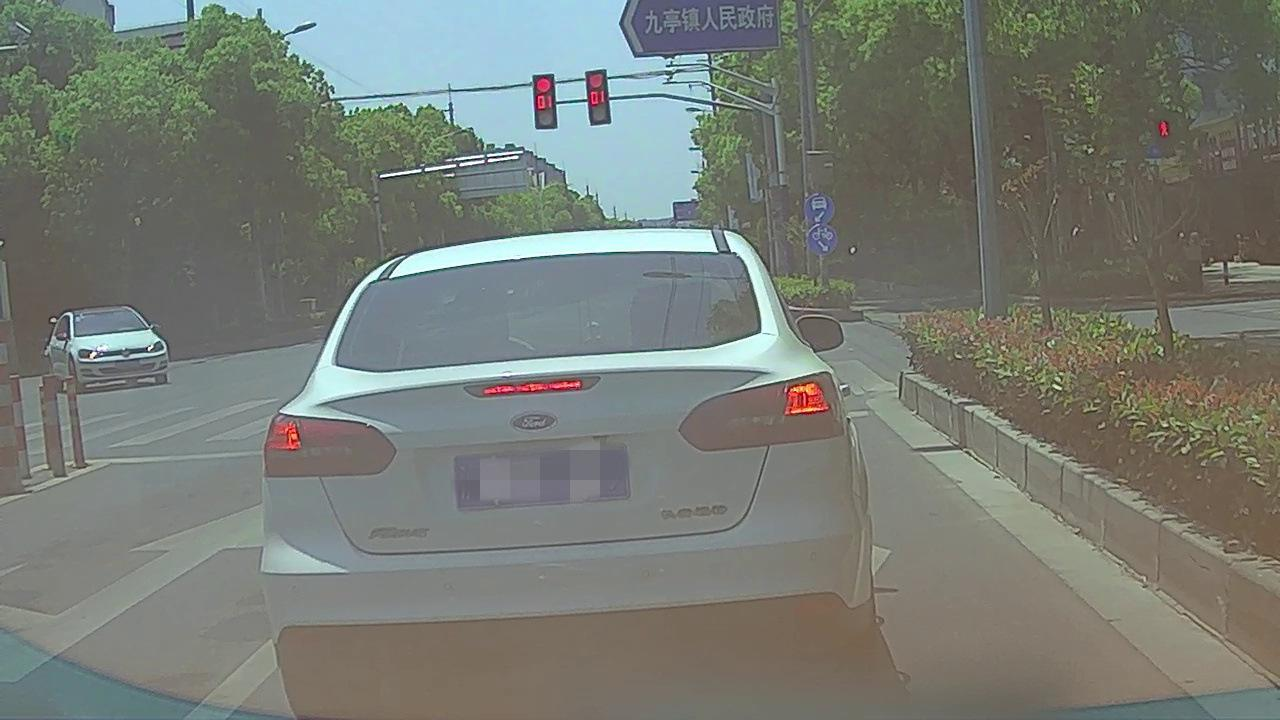traffic_light: (586, 71, 610, 126), (533, 75, 556, 130)
